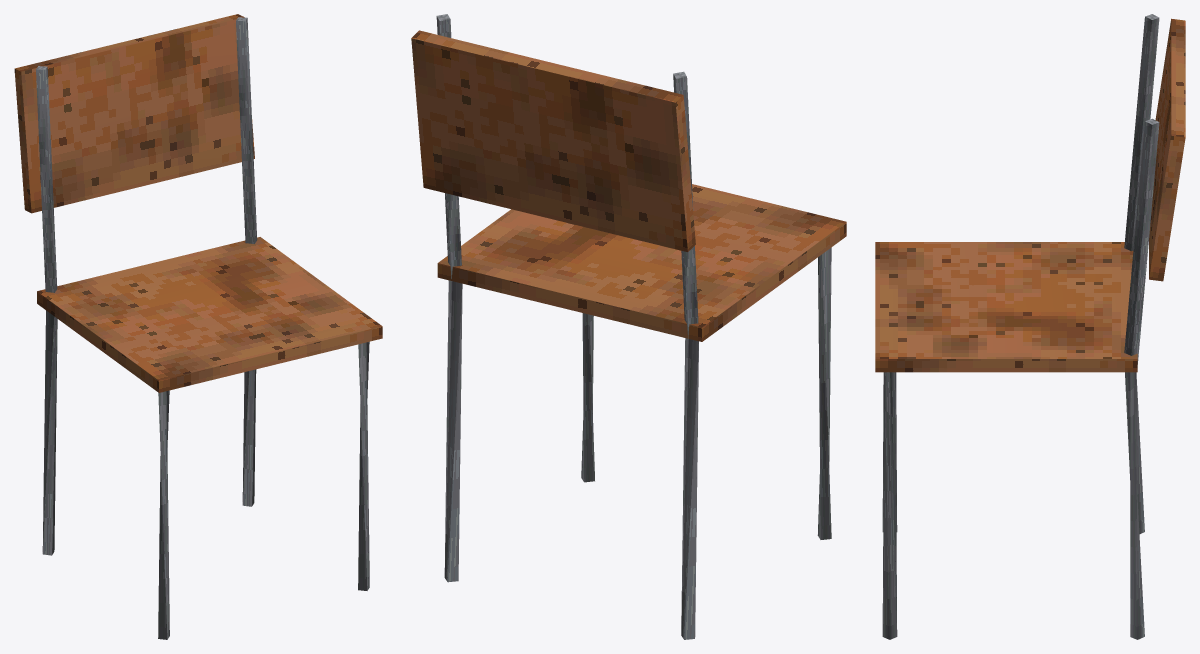
The model's file is student_chair.glb.
The picture shows the model from 3 angles, left to right: view 1: azimuth 30°, elevation 25°; view 2: azimuth 150°, elevation 25°; view 3: azimuth 270°, elevation 25°; orthographic projection. The views are drawn at different scales.
Parts seen in each view (by area): view 1: student_chair; view 2: student_chair; view 3: student_chair.
Boxes of the visible parts, x1=… form: student_chair: x1=14, y1=14, x2=382, y2=639; student_chair: x1=411, y1=14, x2=846, y2=639; student_chair: x1=875, y1=14, x2=1185, y2=639.
Size of the model in its own units: 0.38 by 0.7811 by 0.4258.
